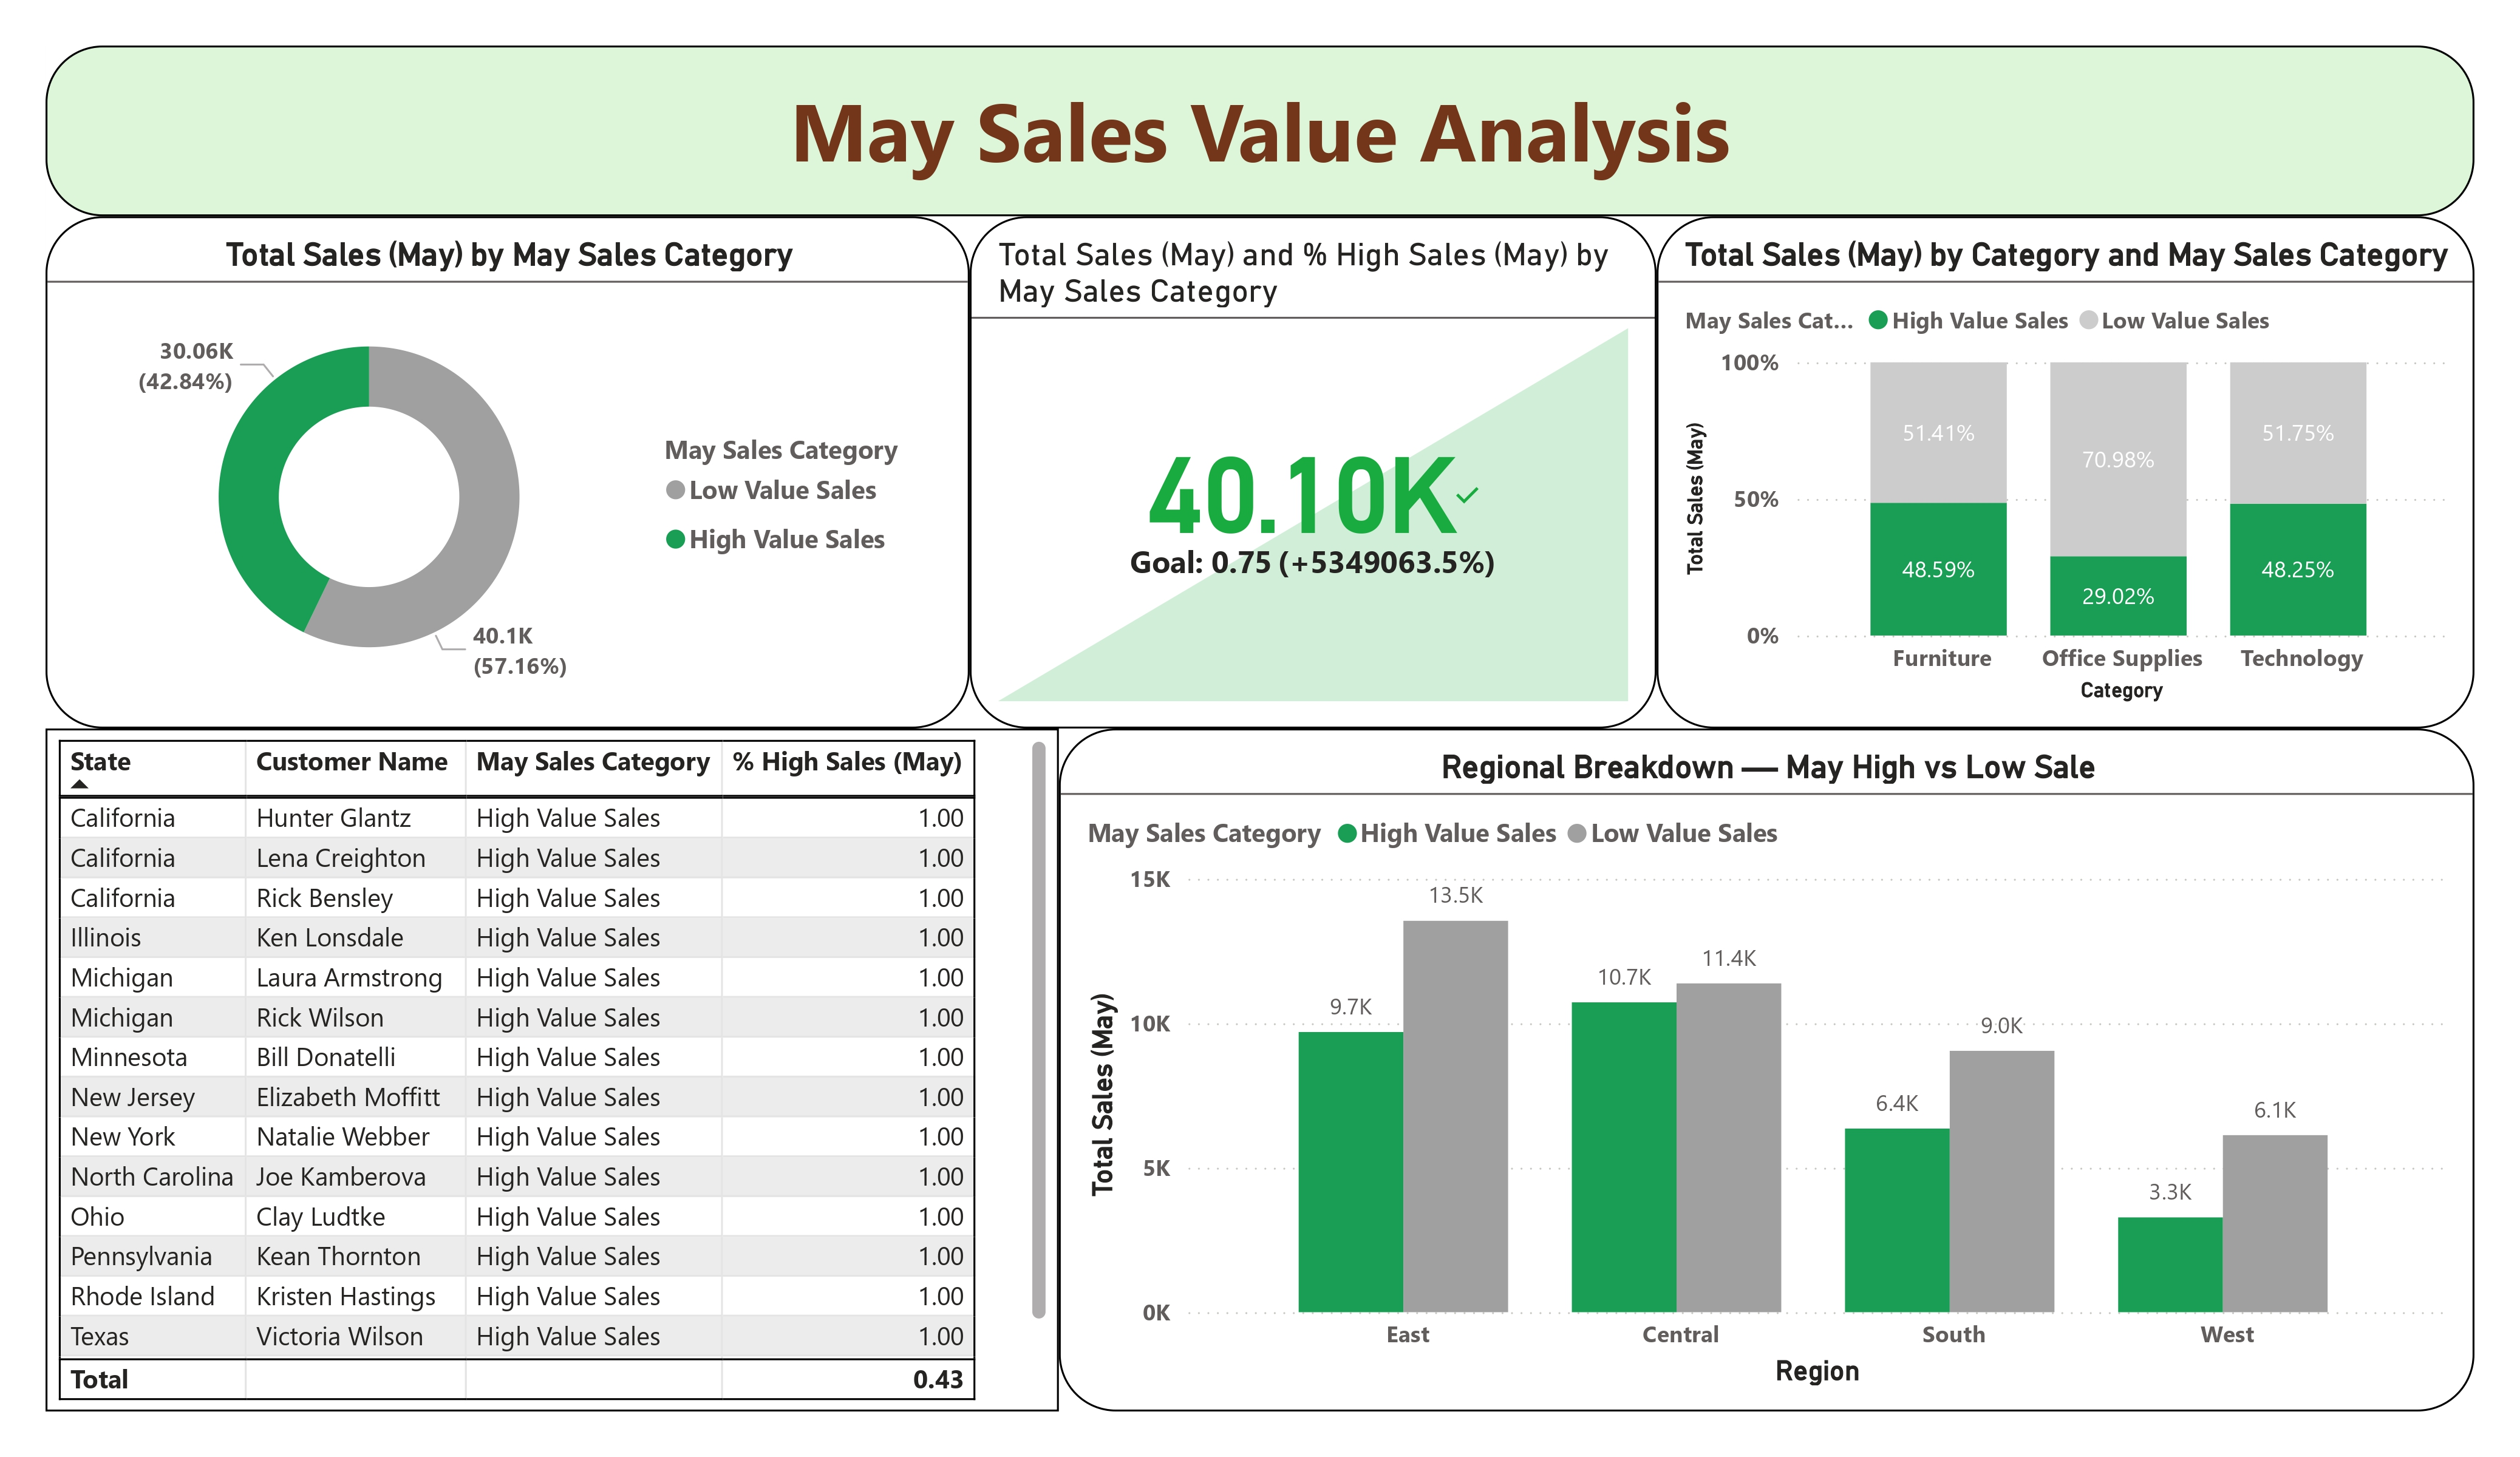

The page's visual inventory and layout, read from the dashboard file:
{"tool":"powerbi","page":{"name":"May Sales Value Analysis","canvas":[1280,720],"ordinal":1},"visuals":[{"type":"donutChart","fields":{"Category":["Append1.May Sales Category"],"Y":["Append1.Total Sales (May)"]},"box":[0,90,487.1,270],"z":0},{"type":"clusteredColumnChart","title":"Regional Breakdown — May High vs Low Sale","fields":{"Series":["Append1.May Sales Category"],"Category":["Append1.Region"],"Y":["Append1.Total Sales (May)"]},"box":[534.3,360,745.7,360],"z":1000},{"type":"tableEx","fields":{"Values":["Append1.State","Append1.Customer Name","Append1.May Sales Category","Append1.% High Sales  (May)"]},"box":[0,360,534.3,360],"z":2000},{"type":"actionButton","box":[0,0,100,40],"z":3000},{"type":"kpi","fields":{"Indicator":["Append1.Total Sales (May)"],"Goal":["Append1.% High Sales  (May)"],"TrendLine":["Append1.May Sales Category"]},"box":[487.1,90,361.4,270],"z":4000},{"type":"hundredPercentStackedColumnChart","fields":{"Y":["Append1.Total Sales (May)"],"Series":["Append1.May Sales Category"],"Category":["Append1.Category"]},"box":[848.6,90,431.4,270],"z":5000},{"type":"textbox","box":[0,0,1280,90],"z":6000}]}

Visuals, with their boxes on the page's 1280x720 design canvas (x1, y1, x2, y2). These are canvas units, not pixel positions in the 2520x1457 screenshot, which may show the page scaled, cropped or inside an application window:
donutChart - Append1.May Sales Category x Append1.Total Sales (May): (0, 90, 487, 360)
"Regional Breakdown — May High vs Low Sale" clusteredColumnChart: (534, 360, 1280, 720)
tableEx - Append1.State x Append1.Customer Name: (0, 360, 534, 720)
actionButton: (0, 0, 100, 40)
kpi - Append1.Total Sales (May) x Append1.% High Sales  (May): (487, 90, 848, 360)
hundredPercentStackedColumnChart - Append1.Total Sales (May) x Append1.May Sales Category: (849, 90, 1280, 360)
textbox: (0, 0, 1280, 90)
